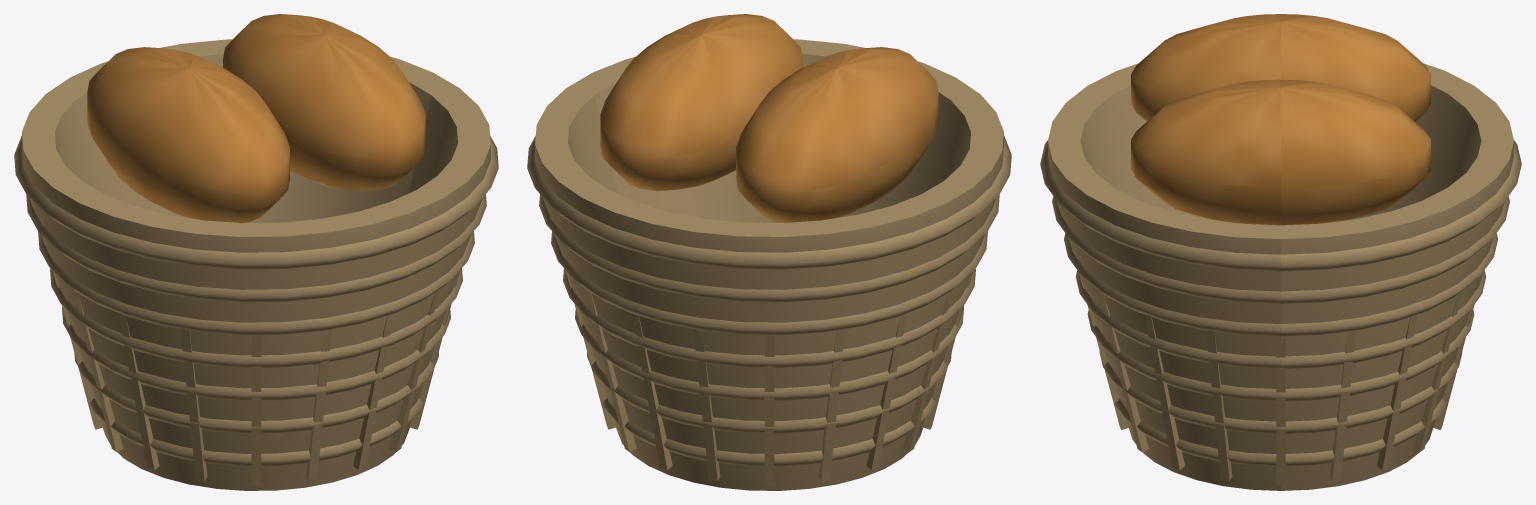
File: Bread_Basket.fbx
3 renders of one model, left to right at view 1: azimuth 30°, elevation 25°; view 2: azimuth 150°, elevation 25°; view 3: azimuth 270°, elevation 25°, orthographic.
Visible parts, largest first — view 1: Woven basket body.002, Basket bread loaf, Basket bread loaf.001, Horizontal wicker braid.020, Horizontal wicker braid.019, Horizontal wicker braid.018, Horizontal wicker braid.017, Horizontal wicker braid.016, Horizontal wicker braid.015, Horizontal wicker braid.014, Basket upright weave.047, Basket upright weave.048 (+7 smaller); view 2: Woven basket body.002, Basket bread loaf, Basket bread loaf.001, Horizontal wicker braid.020, Horizontal wicker braid.019, Horizontal wicker braid.018, Horizontal wicker braid.017, Horizontal wicker braid.016, Horizontal wicker braid.015, Horizontal wicker braid.014, Basket upright weave.043, Basket upright weave.042 (+7 smaller); view 3: Woven basket body.002, Basket bread loaf.001, Basket bread loaf, Horizontal wicker braid.020, Horizontal wicker braid.019, Horizontal wicker braid.018, Horizontal wicker braid.017, Horizontal wicker braid.016, Horizontal wicker braid.015, Horizontal wicker braid.014, Basket upright weave.037, Basket upright weave.053 (+7 smaller).
Boxes of the visible parts, x1,y1,x2,y2 form: Woven basket body.002: (22,39,490,490); Basket bread loaf: (87,47,289,222); Basket bread loaf.001: (223,14,425,190); Horizontal wicker braid.020: (14,135,498,269); Horizontal wicker braid.019: (26,194,486,302); Horizontal wicker braid.018: (38,231,474,334); Horizontal wicker braid.017: (50,268,462,367); Horizontal wicker braid.016: (62,307,450,400); Horizontal wicker braid.015: (74,352,438,433); Horizontal wicker braid.014: (89,398,423,466); Basket upright weave.047: (180,328,207,481); Basket upright weave.048: (251,334,261,485); Woven basket body.002: (535,39,1003,490); Basket bread loaf: (736,47,938,222); Basket bread loaf.001: (600,14,802,190); Horizontal wicker braid.020: (527,135,1011,269); Horizontal wicker braid.019: (539,194,999,302); Horizontal wicker braid.018: (551,231,987,334); Horizontal wicker braid.017: (563,268,975,367); Horizontal wicker braid.016: (575,307,963,400); Horizontal wicker braid.015: (587,352,951,433); Horizontal wicker braid.014: (602,398,936,466); Basket upright weave.043: (818,328,845,481); Basket upright weave.042: (764,334,774,485); Woven basket body.002: (1048,63,1513,490); Basket bread loaf.001: (1131,79,1430,225); Basket bread loaf: (1131,14,1430,121); Horizontal wicker braid.020: (1040,140,1521,271); Horizontal wicker braid.019: (1052,196,1509,303); Horizontal wicker braid.018: (1064,233,1497,336); Horizontal wicker braid.017: (1075,270,1486,368); Horizontal wicker braid.016: (1087,310,1474,401); Horizontal wicker braid.015: (1099,351,1462,433); Horizontal wicker braid.014: (1115,399,1446,466); Basket upright weave.037: (1329,330,1355,481); Basket upright weave.053: (1206,330,1232,481).
Bounding box in the file's own units: 93.03 × 79.3 × 93.03.
